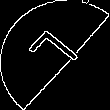L_SE: (24, 27, 86, 83)
